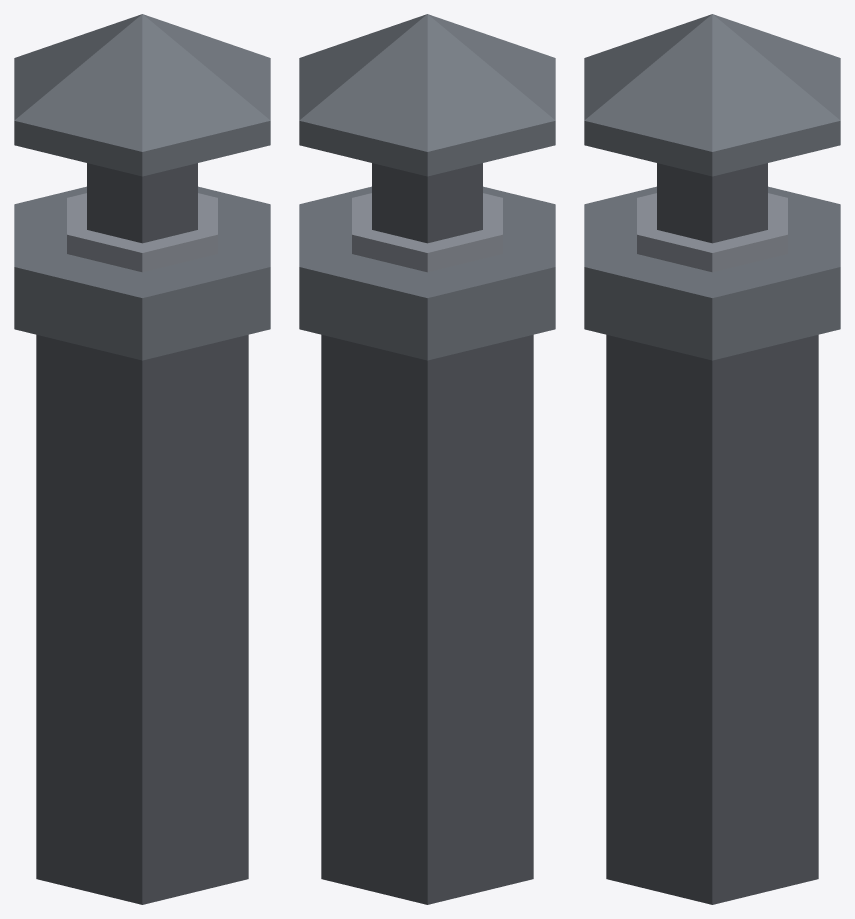
File: SM_Bld_Chimney_02.fbx
The picture shows the model from 3 angles, left to right: view 1: azimuth 30°, elevation 25°; view 2: azimuth 150°, elevation 25°; view 3: azimuth 270°, elevation 25°; orthographic projection.
Visible parts, largest first — view 1: SM_Bld_Chimney_02; view 2: SM_Bld_Chimney_02; view 3: SM_Bld_Chimney_02.
Part boxes in pixels (left/top/right/bottom): SM_Bld_Chimney_02: left=14, top=14, right=270, bottom=904; SM_Bld_Chimney_02: left=299, top=14, right=555, bottom=904; SM_Bld_Chimney_02: left=584, top=14, right=840, bottom=904.
Size of the model in its own units: 45.79 by 143 by 39.65.
